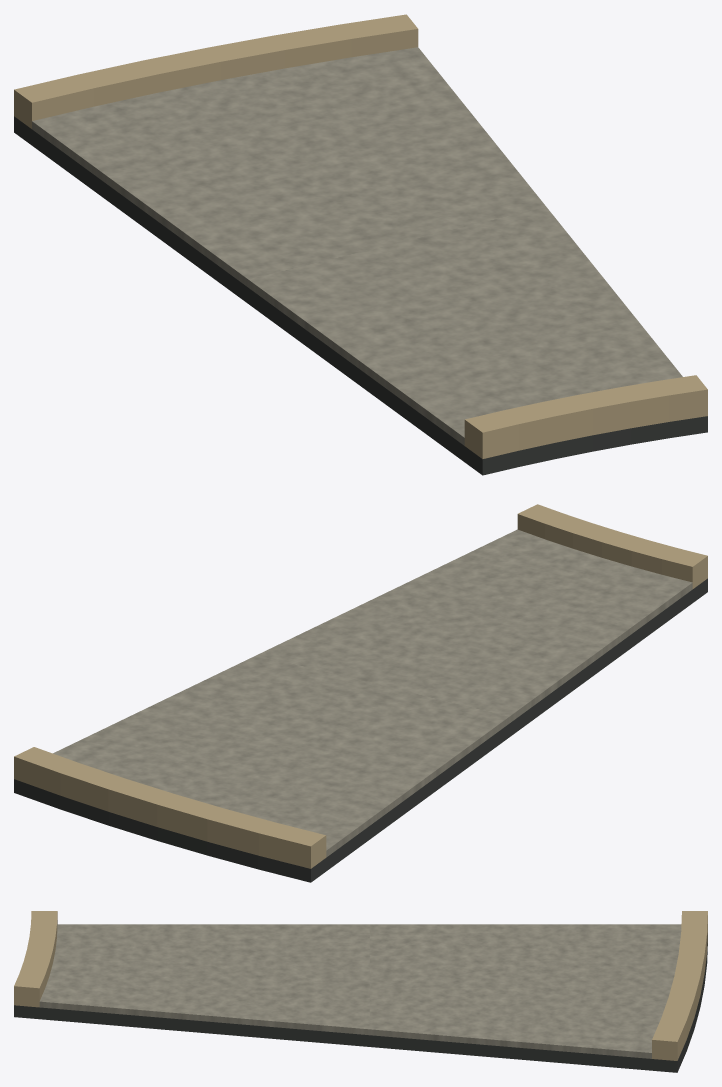
Rendered from road_curve_right_11_25.glb.
3 views of the same model, one above another, from view 1: azimuth 30°, elevation 25°; view 2: azimuth 150°, elevation 25°; view 3: azimuth 270°, elevation 25° (orthographic). The views are drawn at different scales.
Visible parts, largest first — view 1: Concrete curve, Curved curb.001, Curve base, Curved curb; view 2: Concrete curve, Curved curb.001, Curve base, Curved curb; view 3: Concrete curve, Curve base, Curved curb.001, Curved curb.
Part boxes in pixels (box(x1,y1,x2,y2)): Concrete curve: box(32, 47, 682, 445); Curved curb.001: box(14, 14, 418, 128); Curve base: box(14, 116, 707, 475); Curved curb: box(464, 375, 707, 458); Concrete curve: box(53, 529, 692, 857); Curved curb.001: box(14, 747, 326, 868); Curve base: box(14, 578, 707, 882); Curved curb: box(517, 504, 707, 588); Concrete curve: box(39, 924, 681, 1058); Curve base: box(14, 935, 707, 1072); Curved curb.001: box(652, 911, 707, 1060); Curved curb: box(14, 911, 57, 1007).
Bounding box in the file's own units: 381 × 42 × 854.
3 materials, 1 textured.
